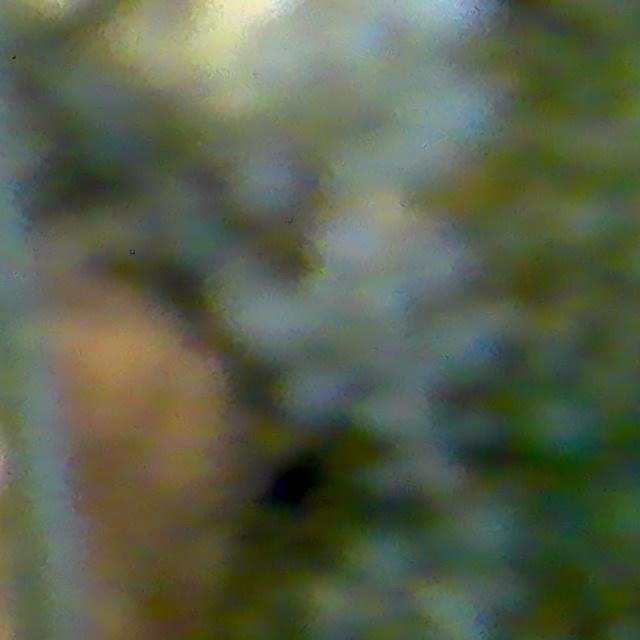SeaGrape: (246, 22, 342, 112), (226, 258, 317, 348), (442, 489, 530, 570), (517, 384, 604, 462), (416, 566, 507, 640), (330, 280, 417, 354), (423, 79, 494, 163), (344, 523, 423, 596), (230, 151, 307, 219), (296, 577, 379, 640), (330, 138, 391, 215), (433, 309, 494, 383), (288, 354, 346, 428), (323, 215, 385, 283), (593, 477, 639, 564)
